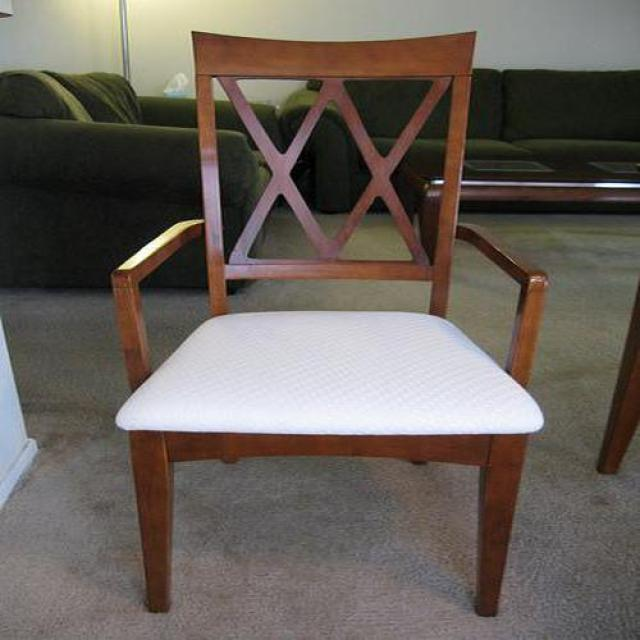chair: (110, 32, 549, 618)
